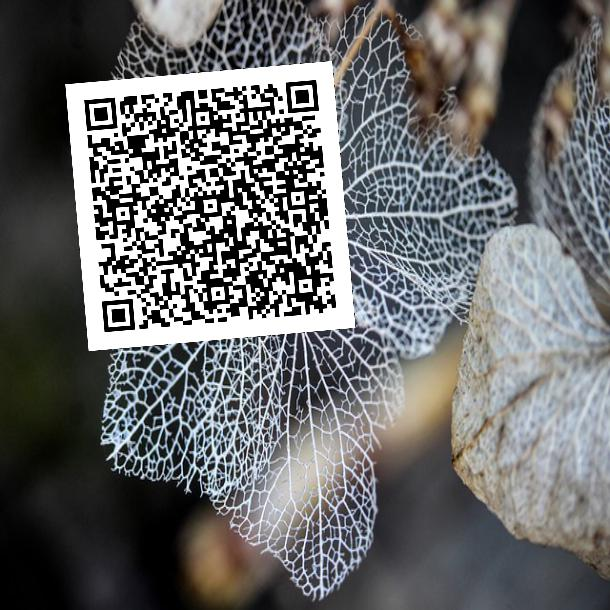qr_code: (65, 60, 355, 350)
